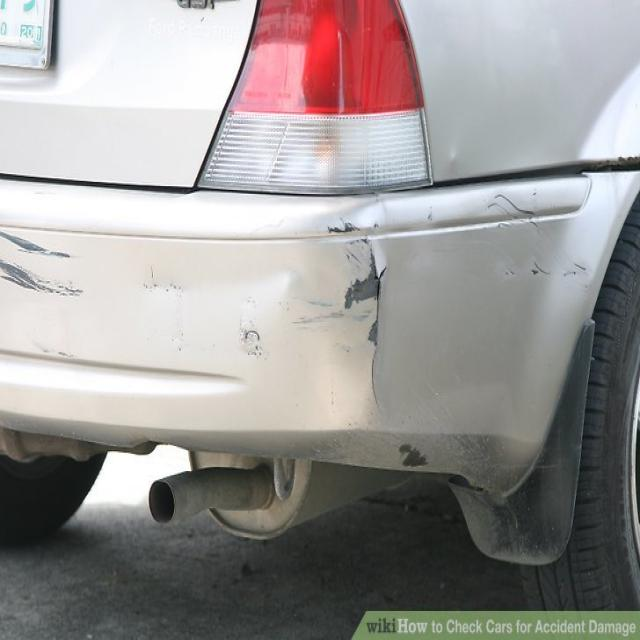Scratch: (320, 227, 388, 359), (3, 231, 86, 292), (390, 439, 437, 468)
